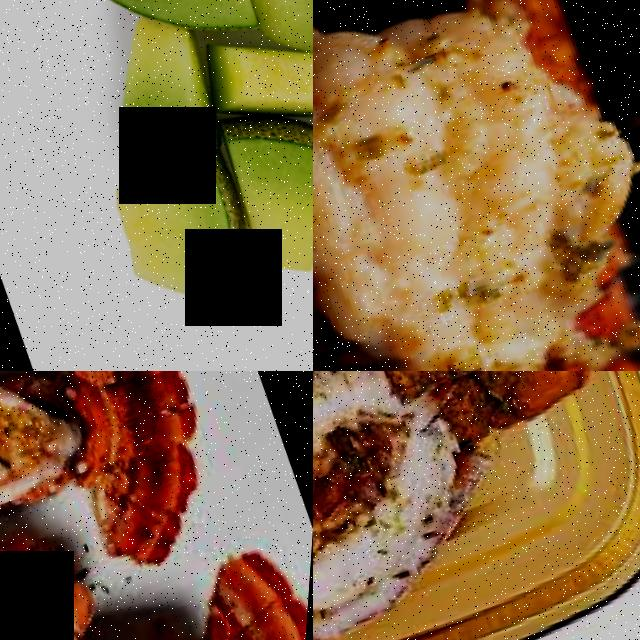lobster tails: (313, 0, 640, 371), (313, 371, 626, 610), (0, 371, 248, 603), (0, 555, 313, 640)
melon: (98, 139, 284, 344), (86, 6, 238, 175), (211, 78, 313, 267)
